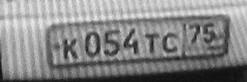license-plateSW: (48, 15, 229, 69)
